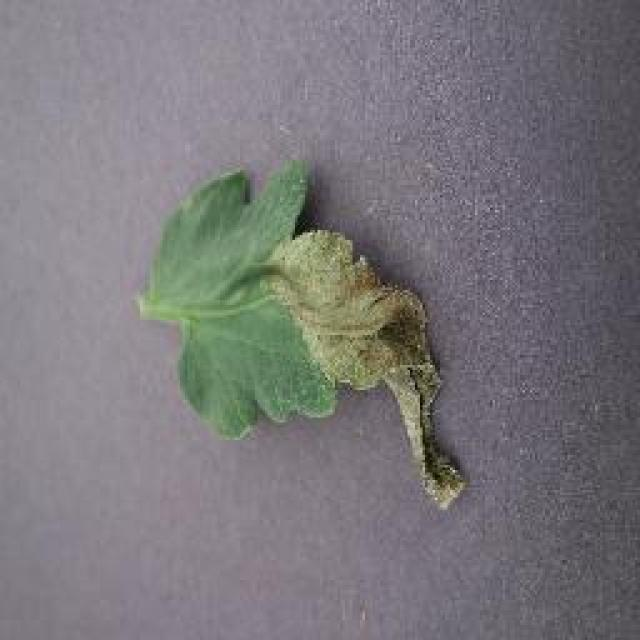Tomato Late Blight: (260, 217, 488, 495)
